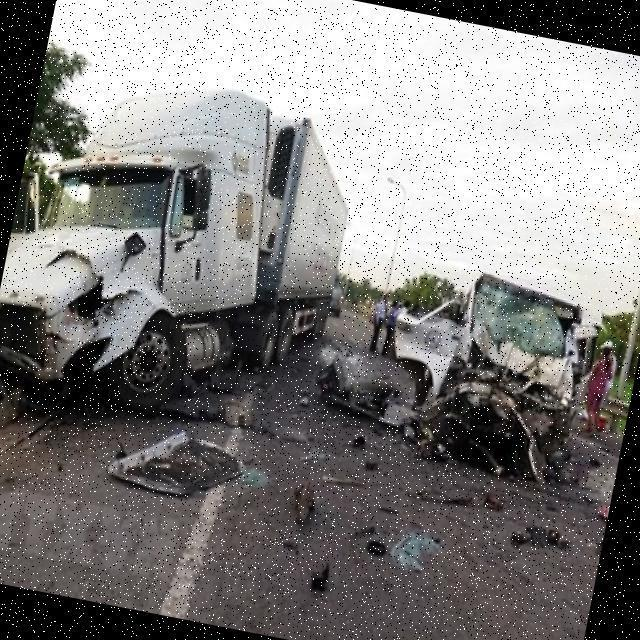accident: (0, 104, 288, 526), (314, 232, 636, 518)
